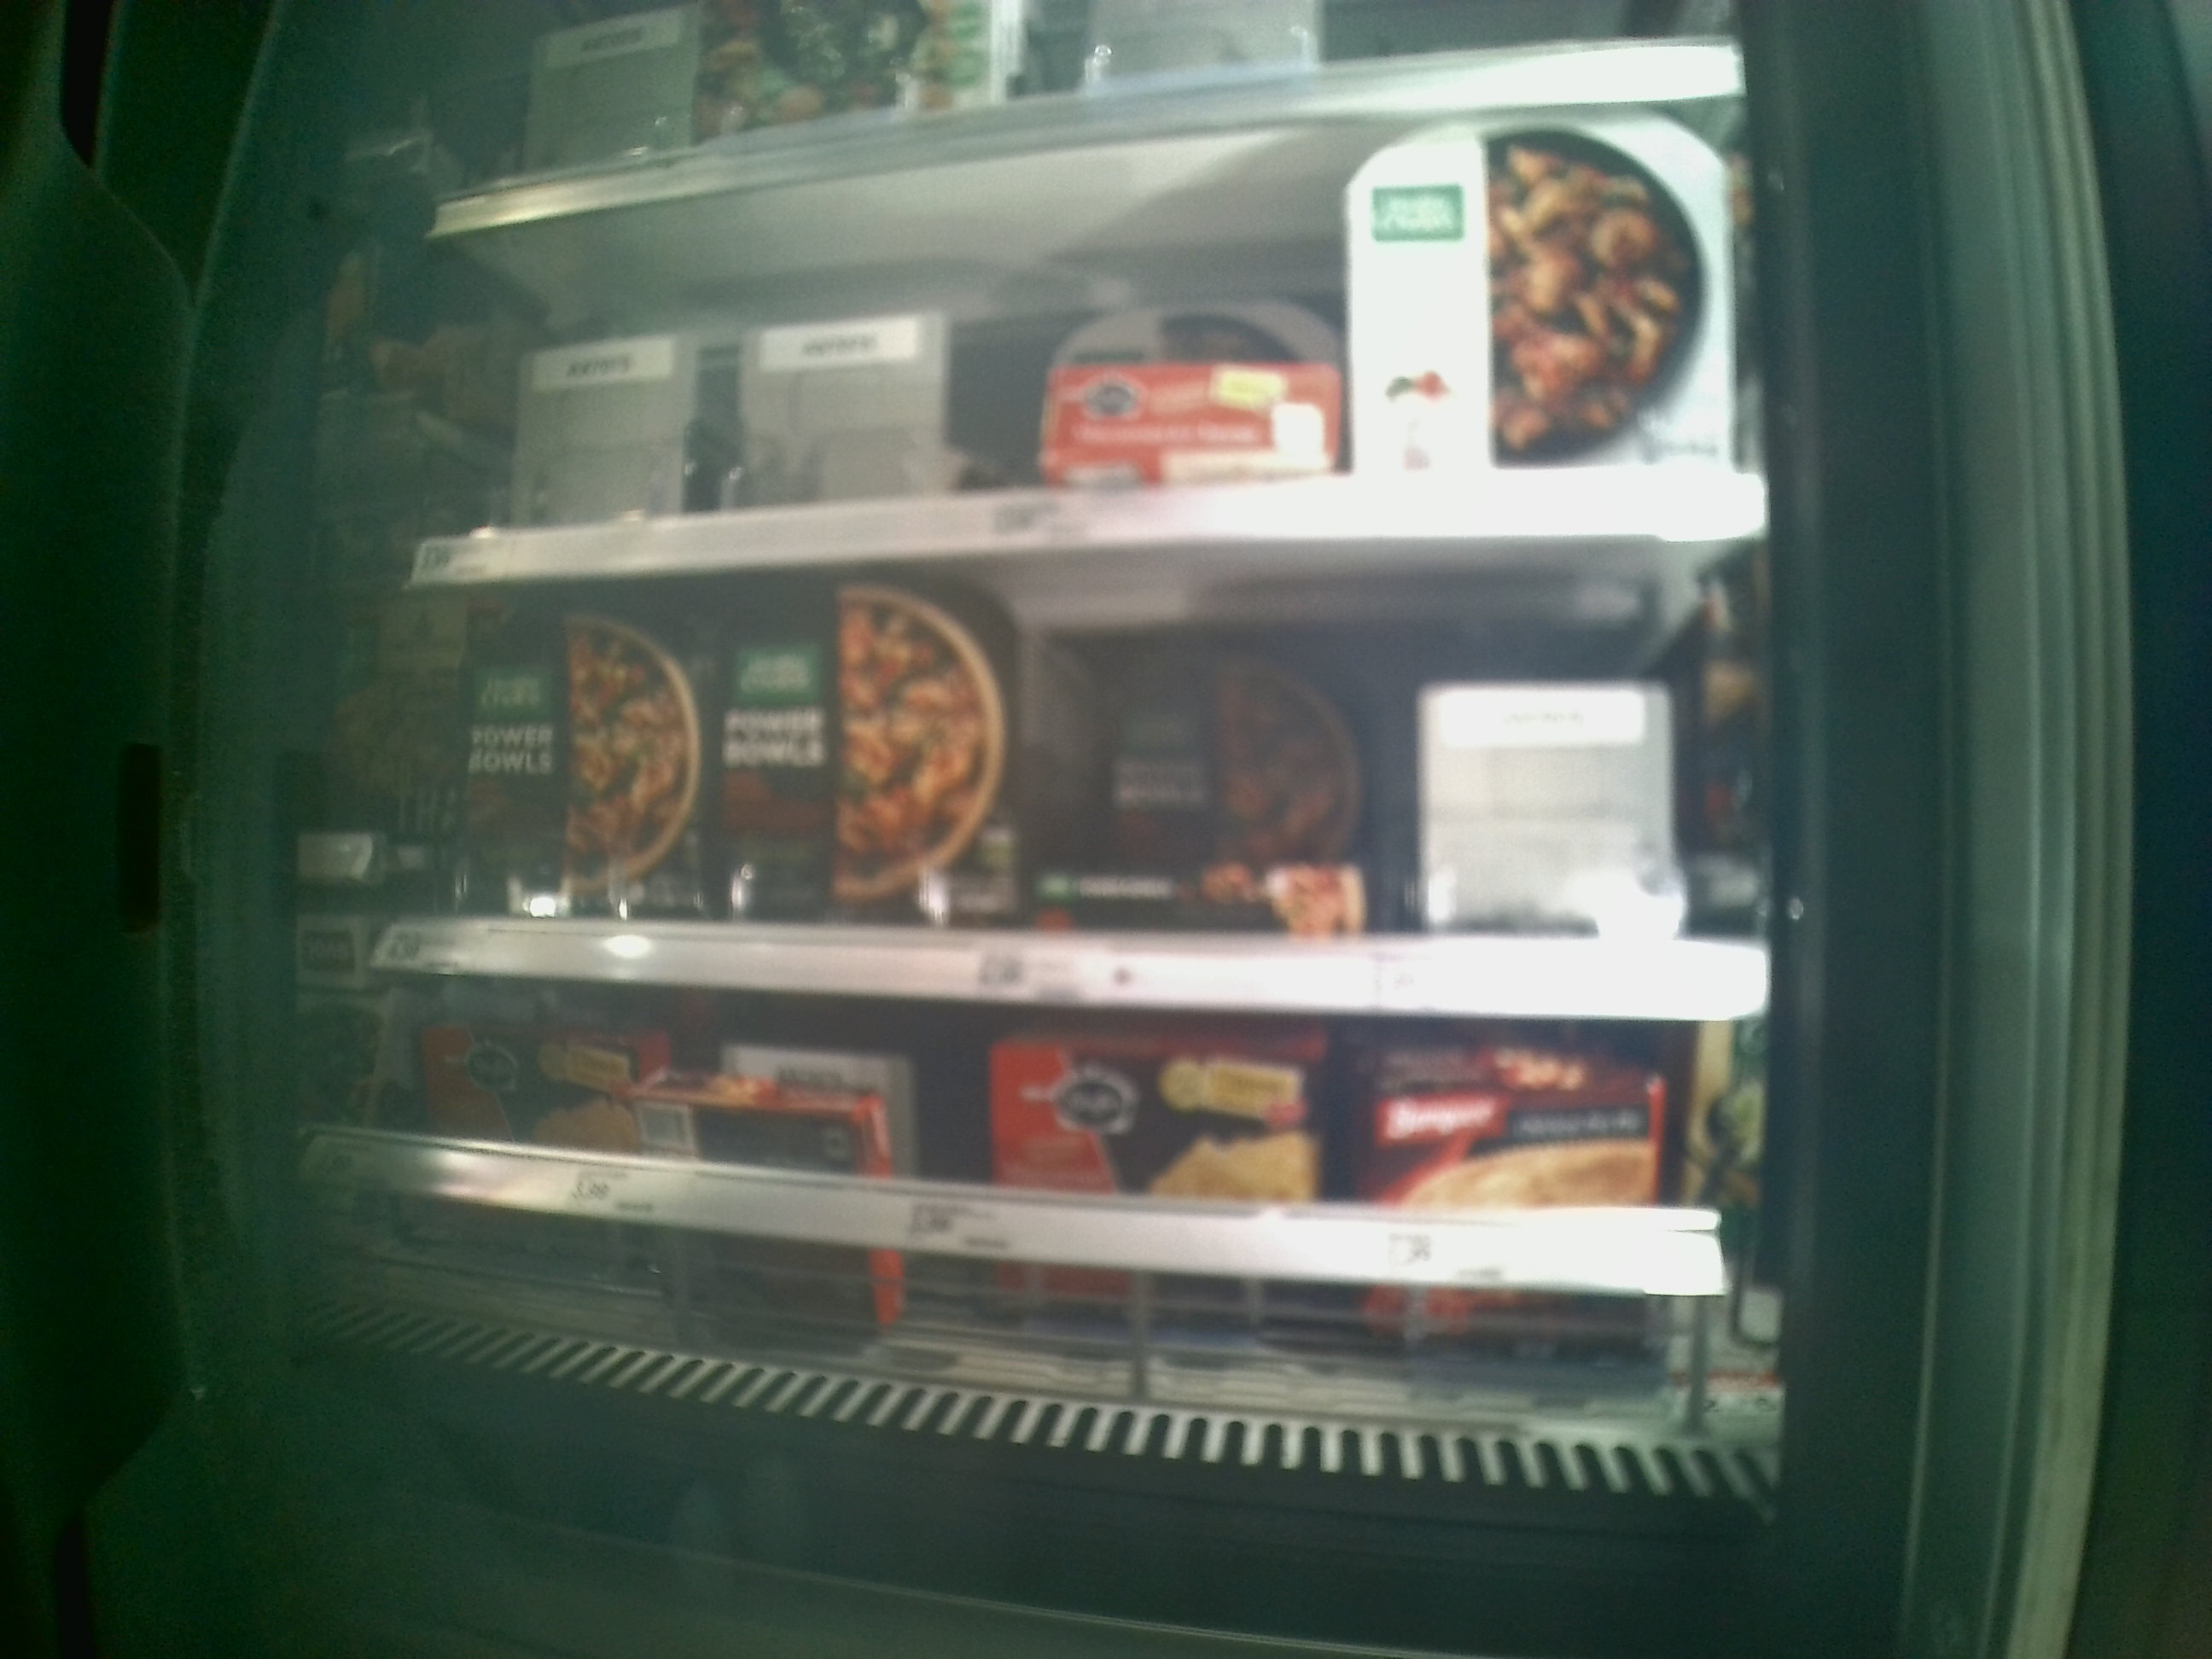shelf: (355, 974, 1792, 1467), (394, 556, 1777, 1019)
